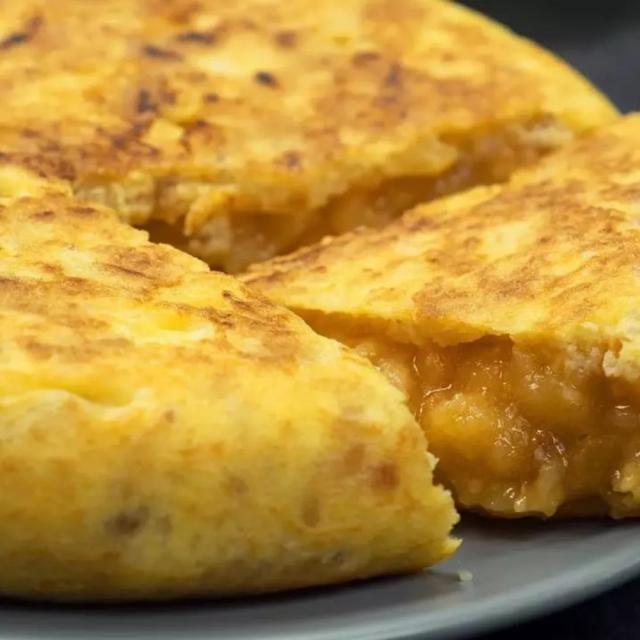arepa: (4, 4, 635, 640)
